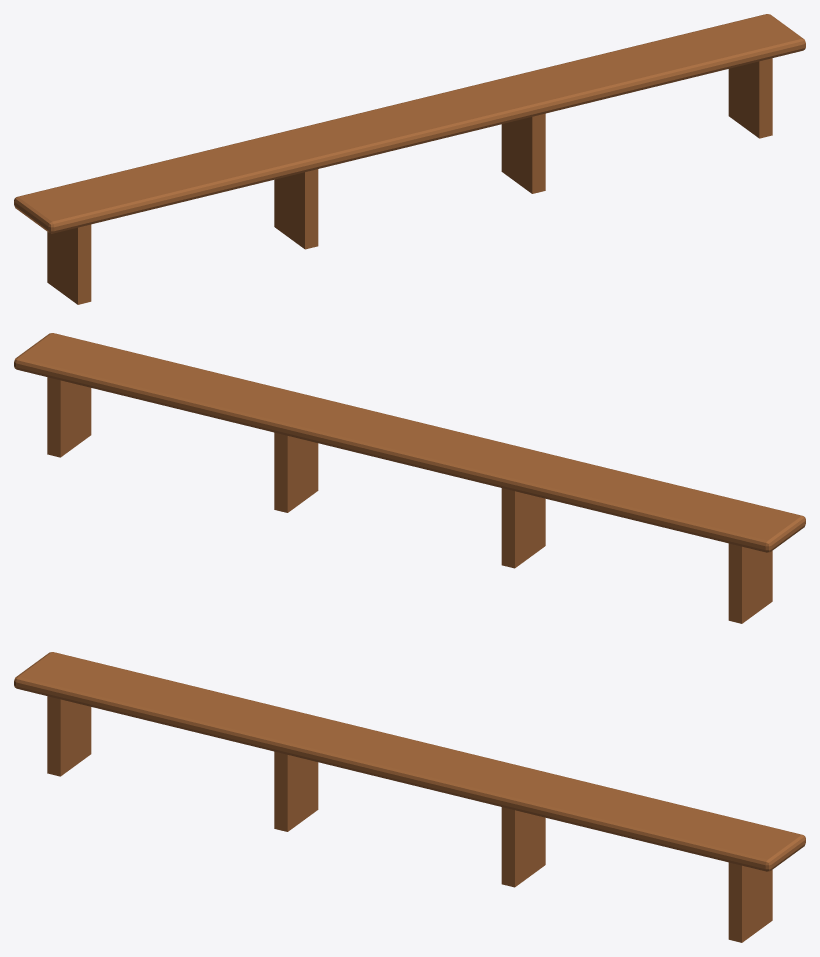
File: int_bangku.fbx
The picture shows the model from 3 angles, top to bottom: view 1: azimuth 30°, elevation 25°; view 2: azimuth 150°, elevation 25°; view 3: azimuth 330°, elevation 25°; orthographic projection.
Visible parts, largest first — view 1: int_bangku; view 2: int_bangku; view 3: int_bangku.
Boxes of the visible parts, box(x1,y1,x2,y2) form: int_bangku: box(14, 14, 805, 304); int_bangku: box(14, 333, 805, 623); int_bangku: box(14, 652, 805, 942).
Size of the model in its own units: 400 by 46 by 35.
1 material, 1 textured.
